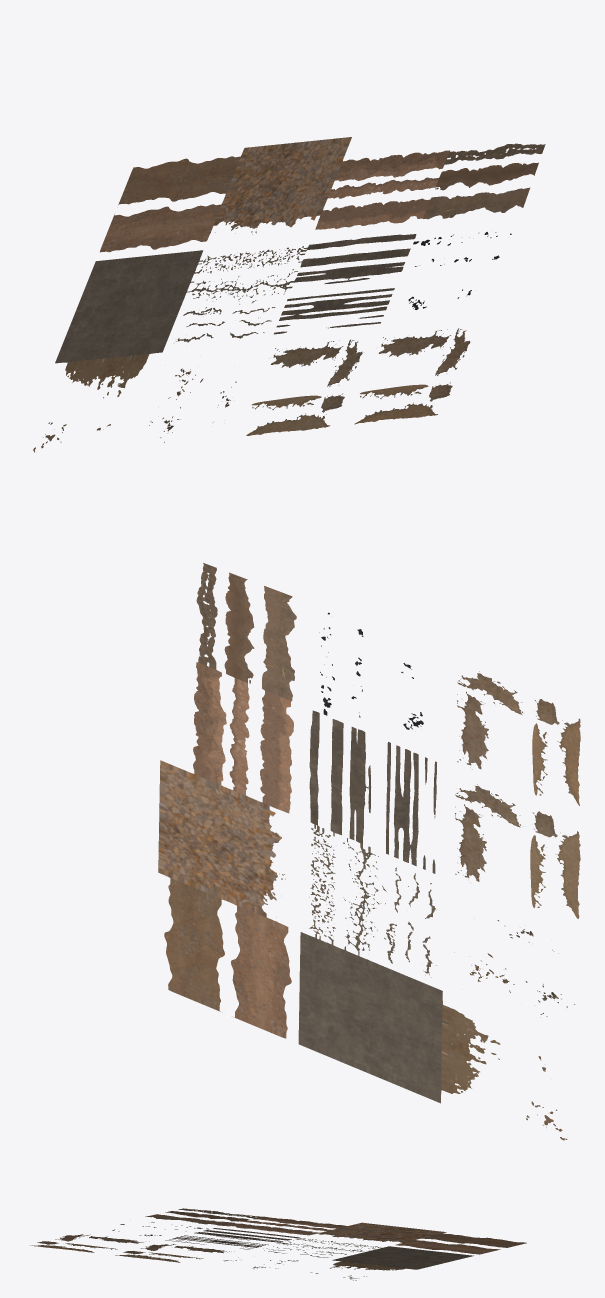
File: SM_Terrain_Road_Hills_Decal_ConcreteBroken_03_03_ATLAS.fbx
3 renders of one model, top to bottom at view 1: azimuth 30°, elevation 25°; view 2: azimuth 150°, elevation 25°; view 3: azimuth 270°, elevation 25°, orthographic. The views are drawn at different scales.
Visible parts, largest first — view 1: SM_Terrain_Road_Hills_Decal_ConcreteBroken_03_03_ATLAS_LOD0; view 2: SM_Terrain_Road_Hills_Decal_ConcreteBroken_03_03_ATLAS_LOD0; view 3: SM_Terrain_Road_Hills_Decal_ConcreteBroken_03_03_ATLAS_LOD0.
Part boxes in pixels (left/top/right/bottom): SM_Terrain_Road_Hills_Decal_ConcreteBroken_03_03_ATLAS_LOD0: left=33, top=137, right=545, bottom=452; SM_Terrain_Road_Hills_Decal_ConcreteBroken_03_03_ATLAS_LOD0: left=158, top=563, right=580, bottom=1140; SM_Terrain_Road_Hills_Decal_ConcreteBroken_03_03_ATLAS_LOD0: left=30, top=1208, right=526, bottom=1280.
Size of the model in its own units: 566 by 702 by 388.
